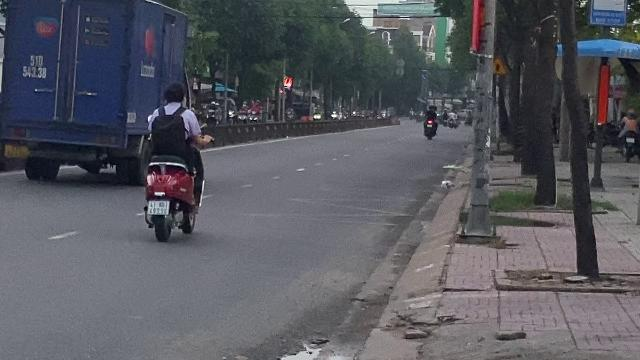licenseplate: (148, 200, 168, 214)
motorcyclist: (138, 82, 206, 241)
nohelmet: (162, 82, 184, 104)
